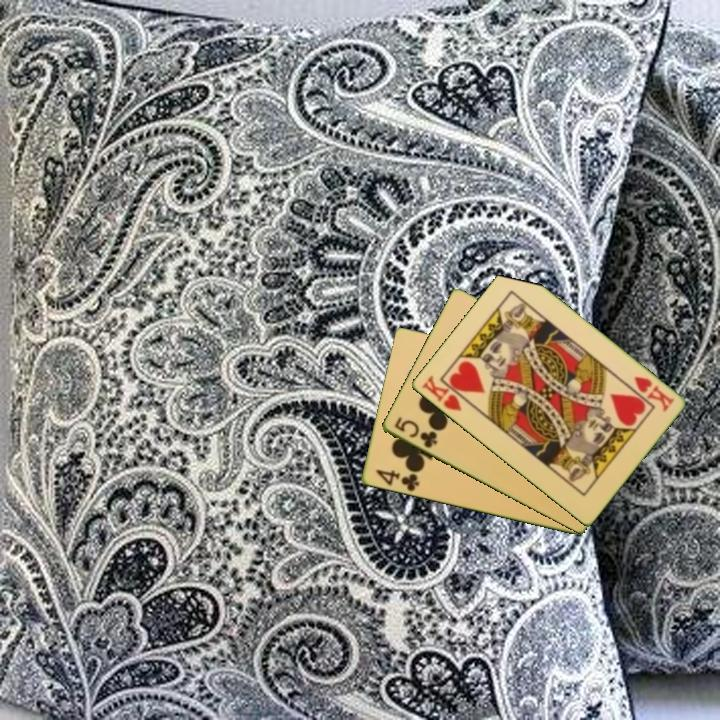4c: (372, 466, 422, 494)
5c: (390, 414, 440, 451)
Kh: (418, 371, 473, 414), (630, 373, 677, 415)
